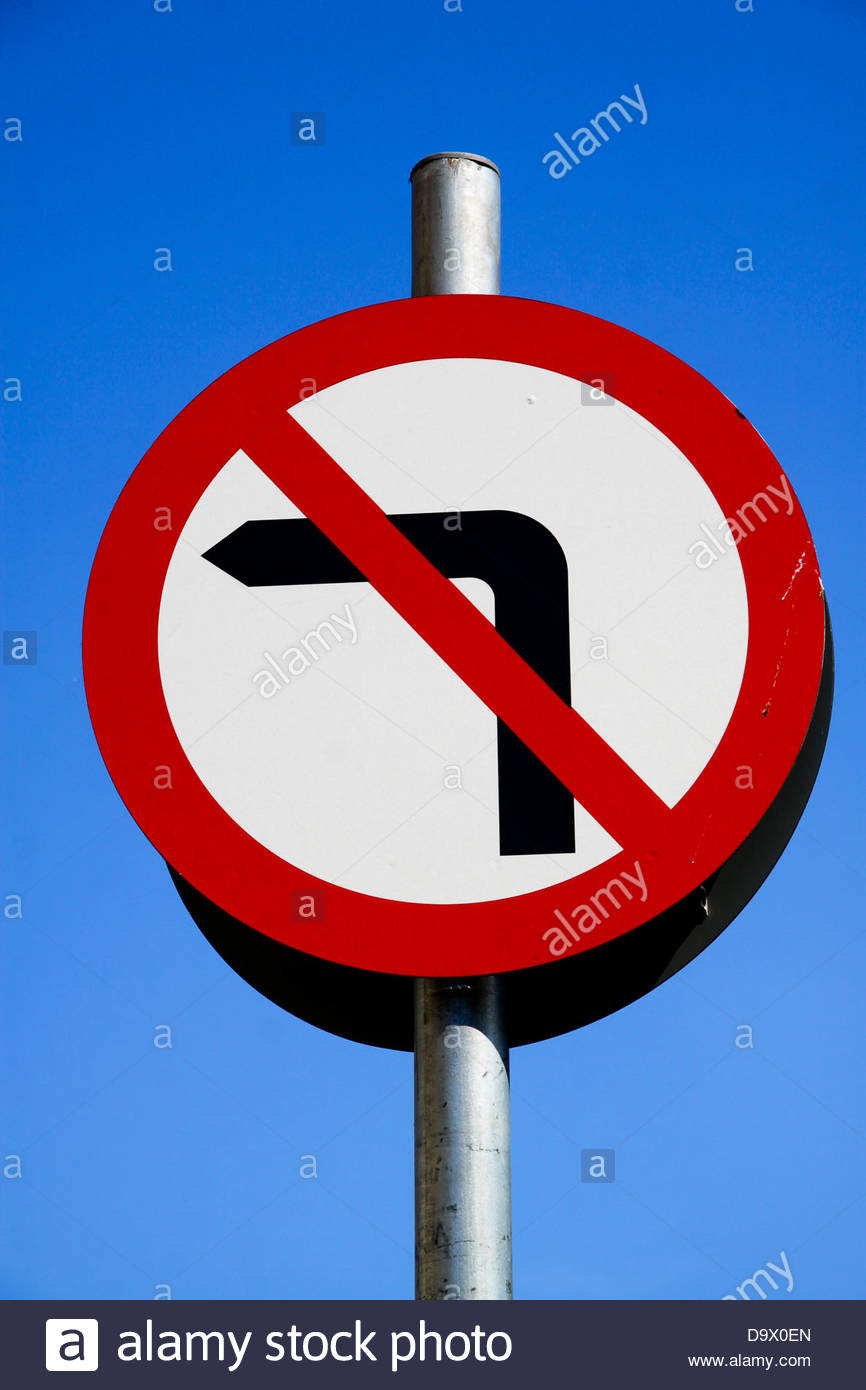No_left_turn: (80, 297, 830, 978)
